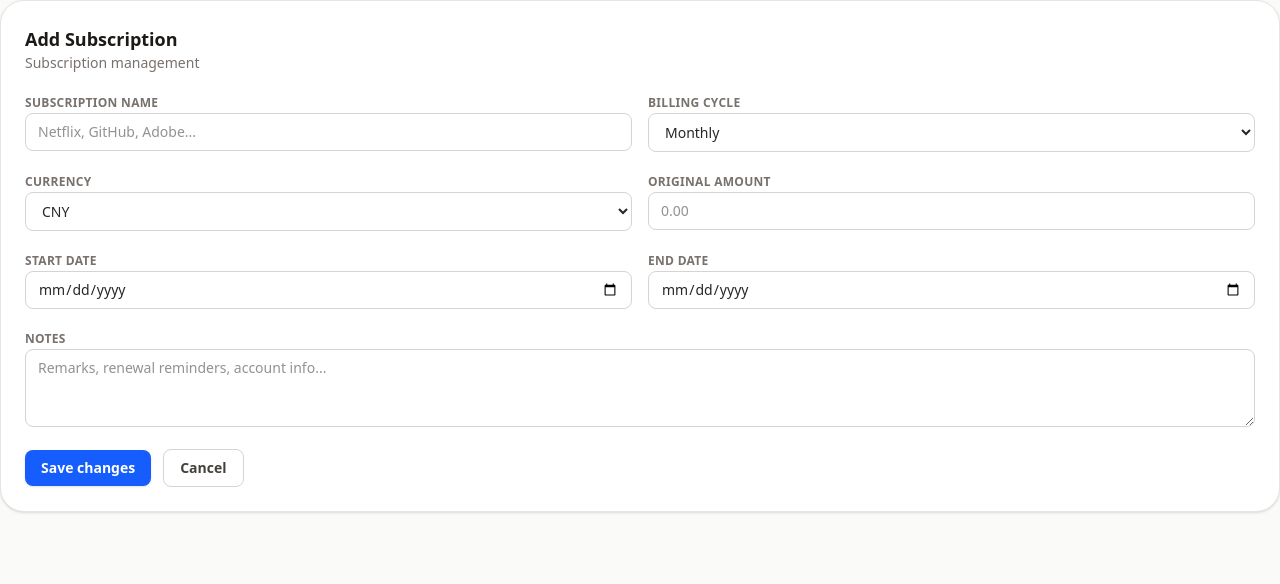
Test: SubscriptionForm › Form Validation › should validate name field is required
This screenshot has width=1280, height=584.
Step 1. Type "10.00" into the field with placeholder "0.00" → (952, 211), box [648,192,1255,230]
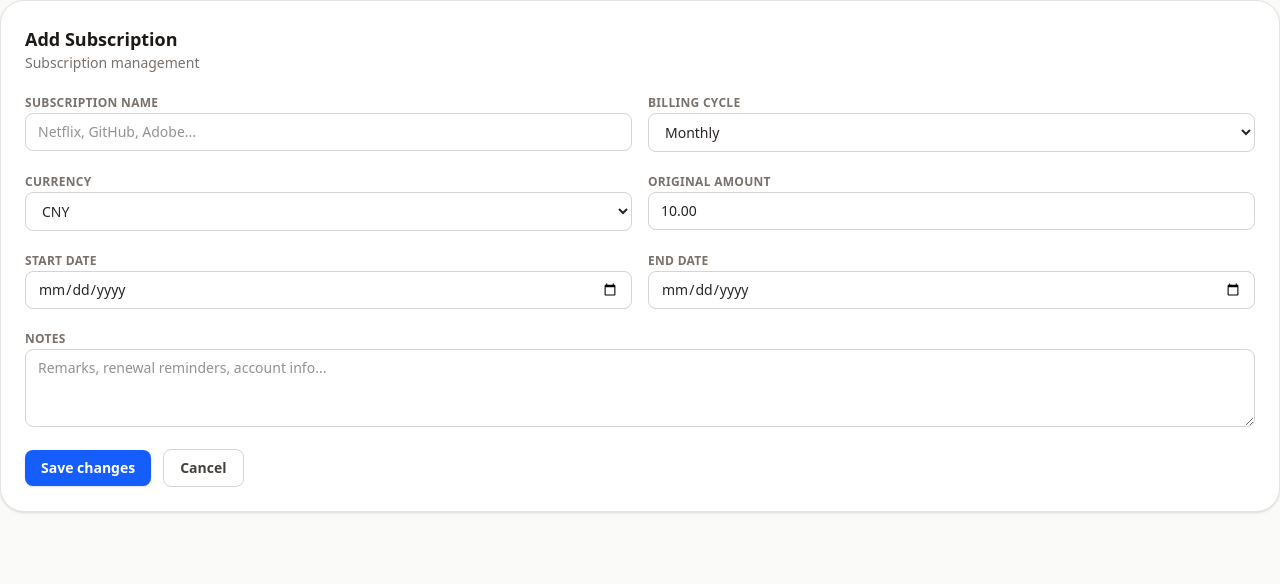
Step 2. Type "2024-01-01" into the date field labelled "Start date" → (328, 290), box [25,271,632,309]
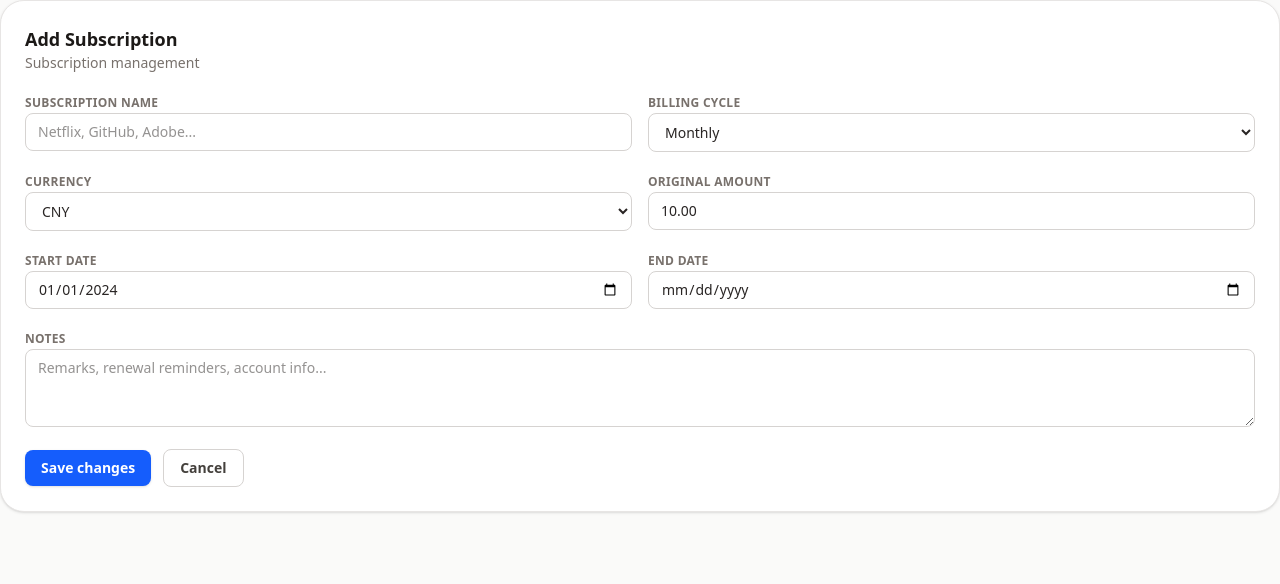
Step 3. Click the button "Save changes" → (88, 468), box [25,450,151,486]
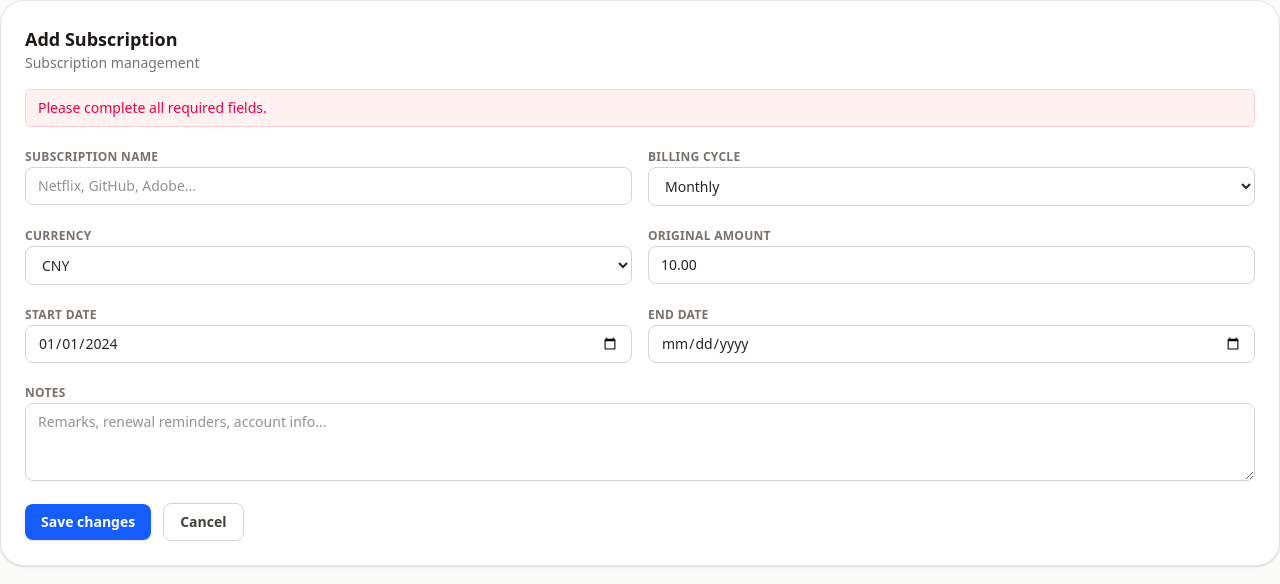
Expected: the text "Please complete all required fields." is shown, [25,89,1255,127]
